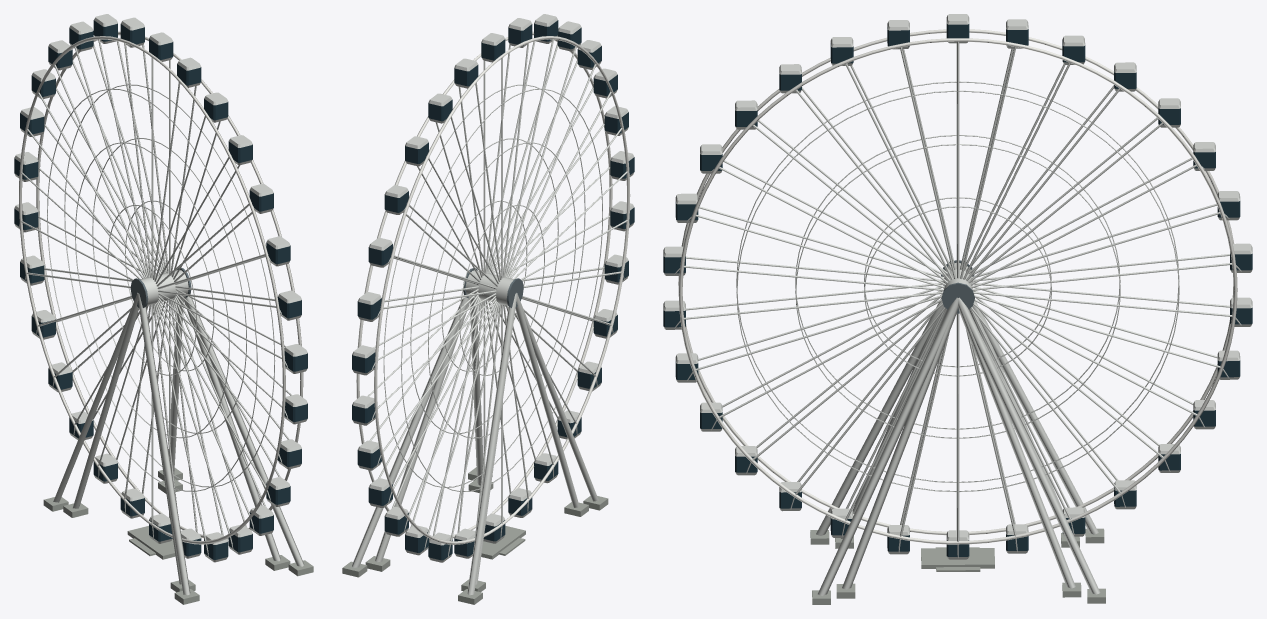
The model's file is the-wheel-icon-park-far.glb.
The picture shows the model from 3 angles, left to right: view 1: azimuth 30°, elevation 25°; view 2: azimuth 150°, elevation 25°; view 3: azimuth 270°, elevation 25°; orthographic projection. The views are drawn at different scales.
Parts seen in each view (by area): view 1: the-wheel-icon-park-0-structure, the-wheel-icon-park-0-glass, the-wheel-icon-park-0-glow, the-wheel-icon-park-0-concrete, the-wheel-icon-park-0-light, the-wheel-icon-park-0-hardware; view 2: the-wheel-icon-park-0-structure, the-wheel-icon-park-0-glass, the-wheel-icon-park-0-glow, the-wheel-icon-park-0-concrete, the-wheel-icon-park-0-light, the-wheel-icon-park-0-hardware; view 3: the-wheel-icon-park-0-structure, the-wheel-icon-park-0-glass, the-wheel-icon-park-0-light, the-wheel-icon-park-0-glow, the-wheel-icon-park-0-concrete.
Boxes of the visible parts, box(x1,y1,x2,y2) form: the-wheel-icon-park-0-structure: box(14, 14, 307, 595); the-wheel-icon-park-0-glass: box(14, 20, 307, 559); the-wheel-icon-park-0-glow: box(19, 36, 285, 544); the-wheel-icon-park-0-concrete: box(43, 468, 313, 604); the-wheel-icon-park-0-light: box(36, 31, 303, 539); the-wheel-icon-park-0-hardware: box(130, 268, 191, 307); the-wheel-icon-park-0-structure: box(352, 14, 634, 595); the-wheel-icon-park-0-glass: box(352, 20, 634, 560); the-wheel-icon-park-0-glow: box(374, 36, 630, 544); the-wheel-icon-park-0-concrete: box(342, 467, 608, 604); the-wheel-icon-park-0-light: box(356, 31, 612, 539); the-wheel-icon-park-0-hardware: box(463, 268, 523, 307); the-wheel-icon-park-0-structure: box(663, 14, 1252, 595); the-wheel-icon-park-0-glass: box(663, 24, 1252, 556); the-wheel-icon-park-0-light: box(678, 38, 1237, 544); the-wheel-icon-park-0-glow: box(678, 29, 1237, 535); the-wheel-icon-park-0-concrete: box(810, 528, 1105, 604).
Bounding box in the file's own units: 33.81 × 122 × 120.
